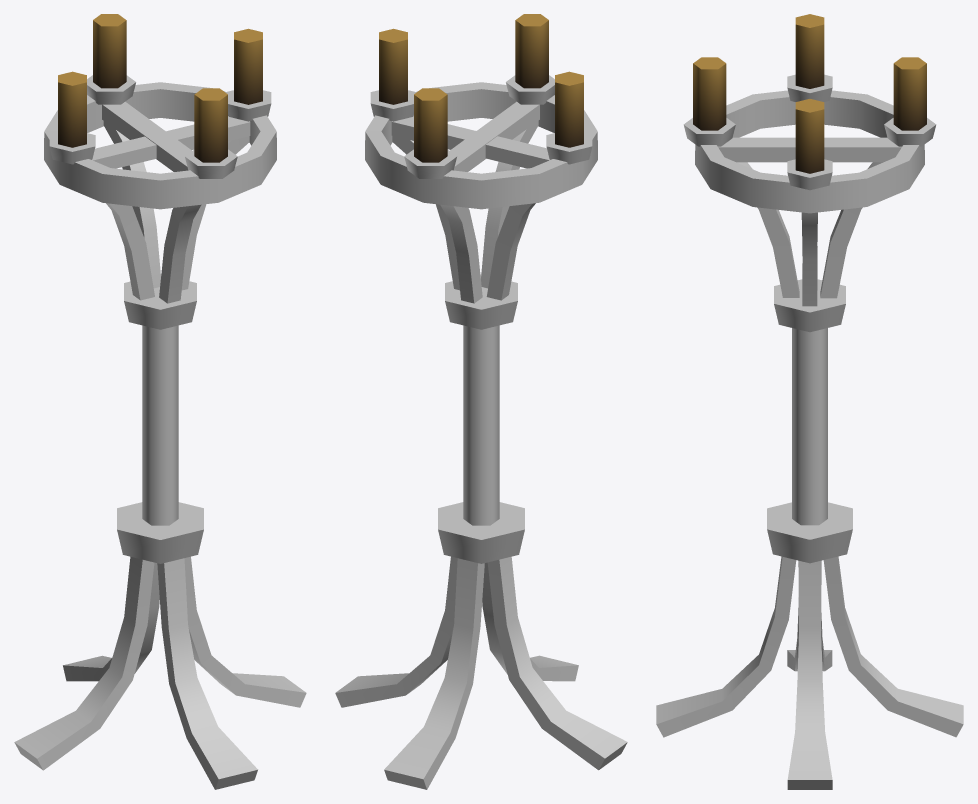
Rendered from SM_Candelabra_Floor_01.fbx.
The picture shows the model from 3 angles, left to right: view 1: azimuth 30°, elevation 25°; view 2: azimuth 150°, elevation 25°; view 3: azimuth 270°, elevation 25°; orthographic projection.
Visible parts, largest first — view 1: SM_Candelabra_Floor_01_Mesh; view 2: SM_Candelabra_Floor_01_Mesh; view 3: SM_Candelabra_Floor_01_Mesh.
Part boxes in pixels (x1,y1,x2,y2): SM_Candelabra_Floor_01_Mesh: (14, 14, 306, 789); SM_Candelabra_Floor_01_Mesh: (335, 14, 627, 789); SM_Candelabra_Floor_01_Mesh: (656, 14, 963, 789).
Size of what is drawn, in the model's own units: 54.11 by 129 by 54.11.
